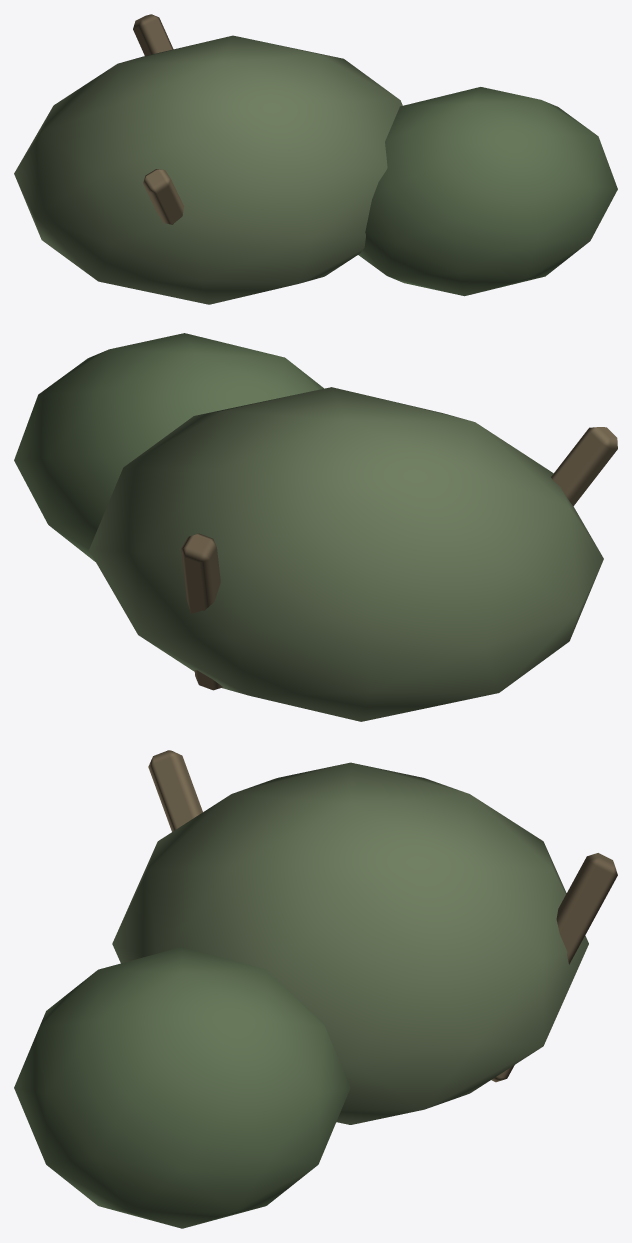
Rendered from sagebrush.b4b30f01.glb.
The picture shows the model from 3 angles, top to bottom: view 1: azimuth 30°, elevation 25°; view 2: azimuth 150°, elevation 25°; view 3: azimuth 270°, elevation 25°; orthographic projection. The views are drawn at different scales.
Parts seen in each view (by area): view 1: body; view 2: body; view 3: body.
Boxes of the visible parts, x1,y1,x2,y2 form: body: [14, 14, 617, 304]; body: [14, 333, 617, 721]; body: [14, 750, 617, 1228].
Size of the model in its own units: 0.27 by 0.11 by 0.2153.
